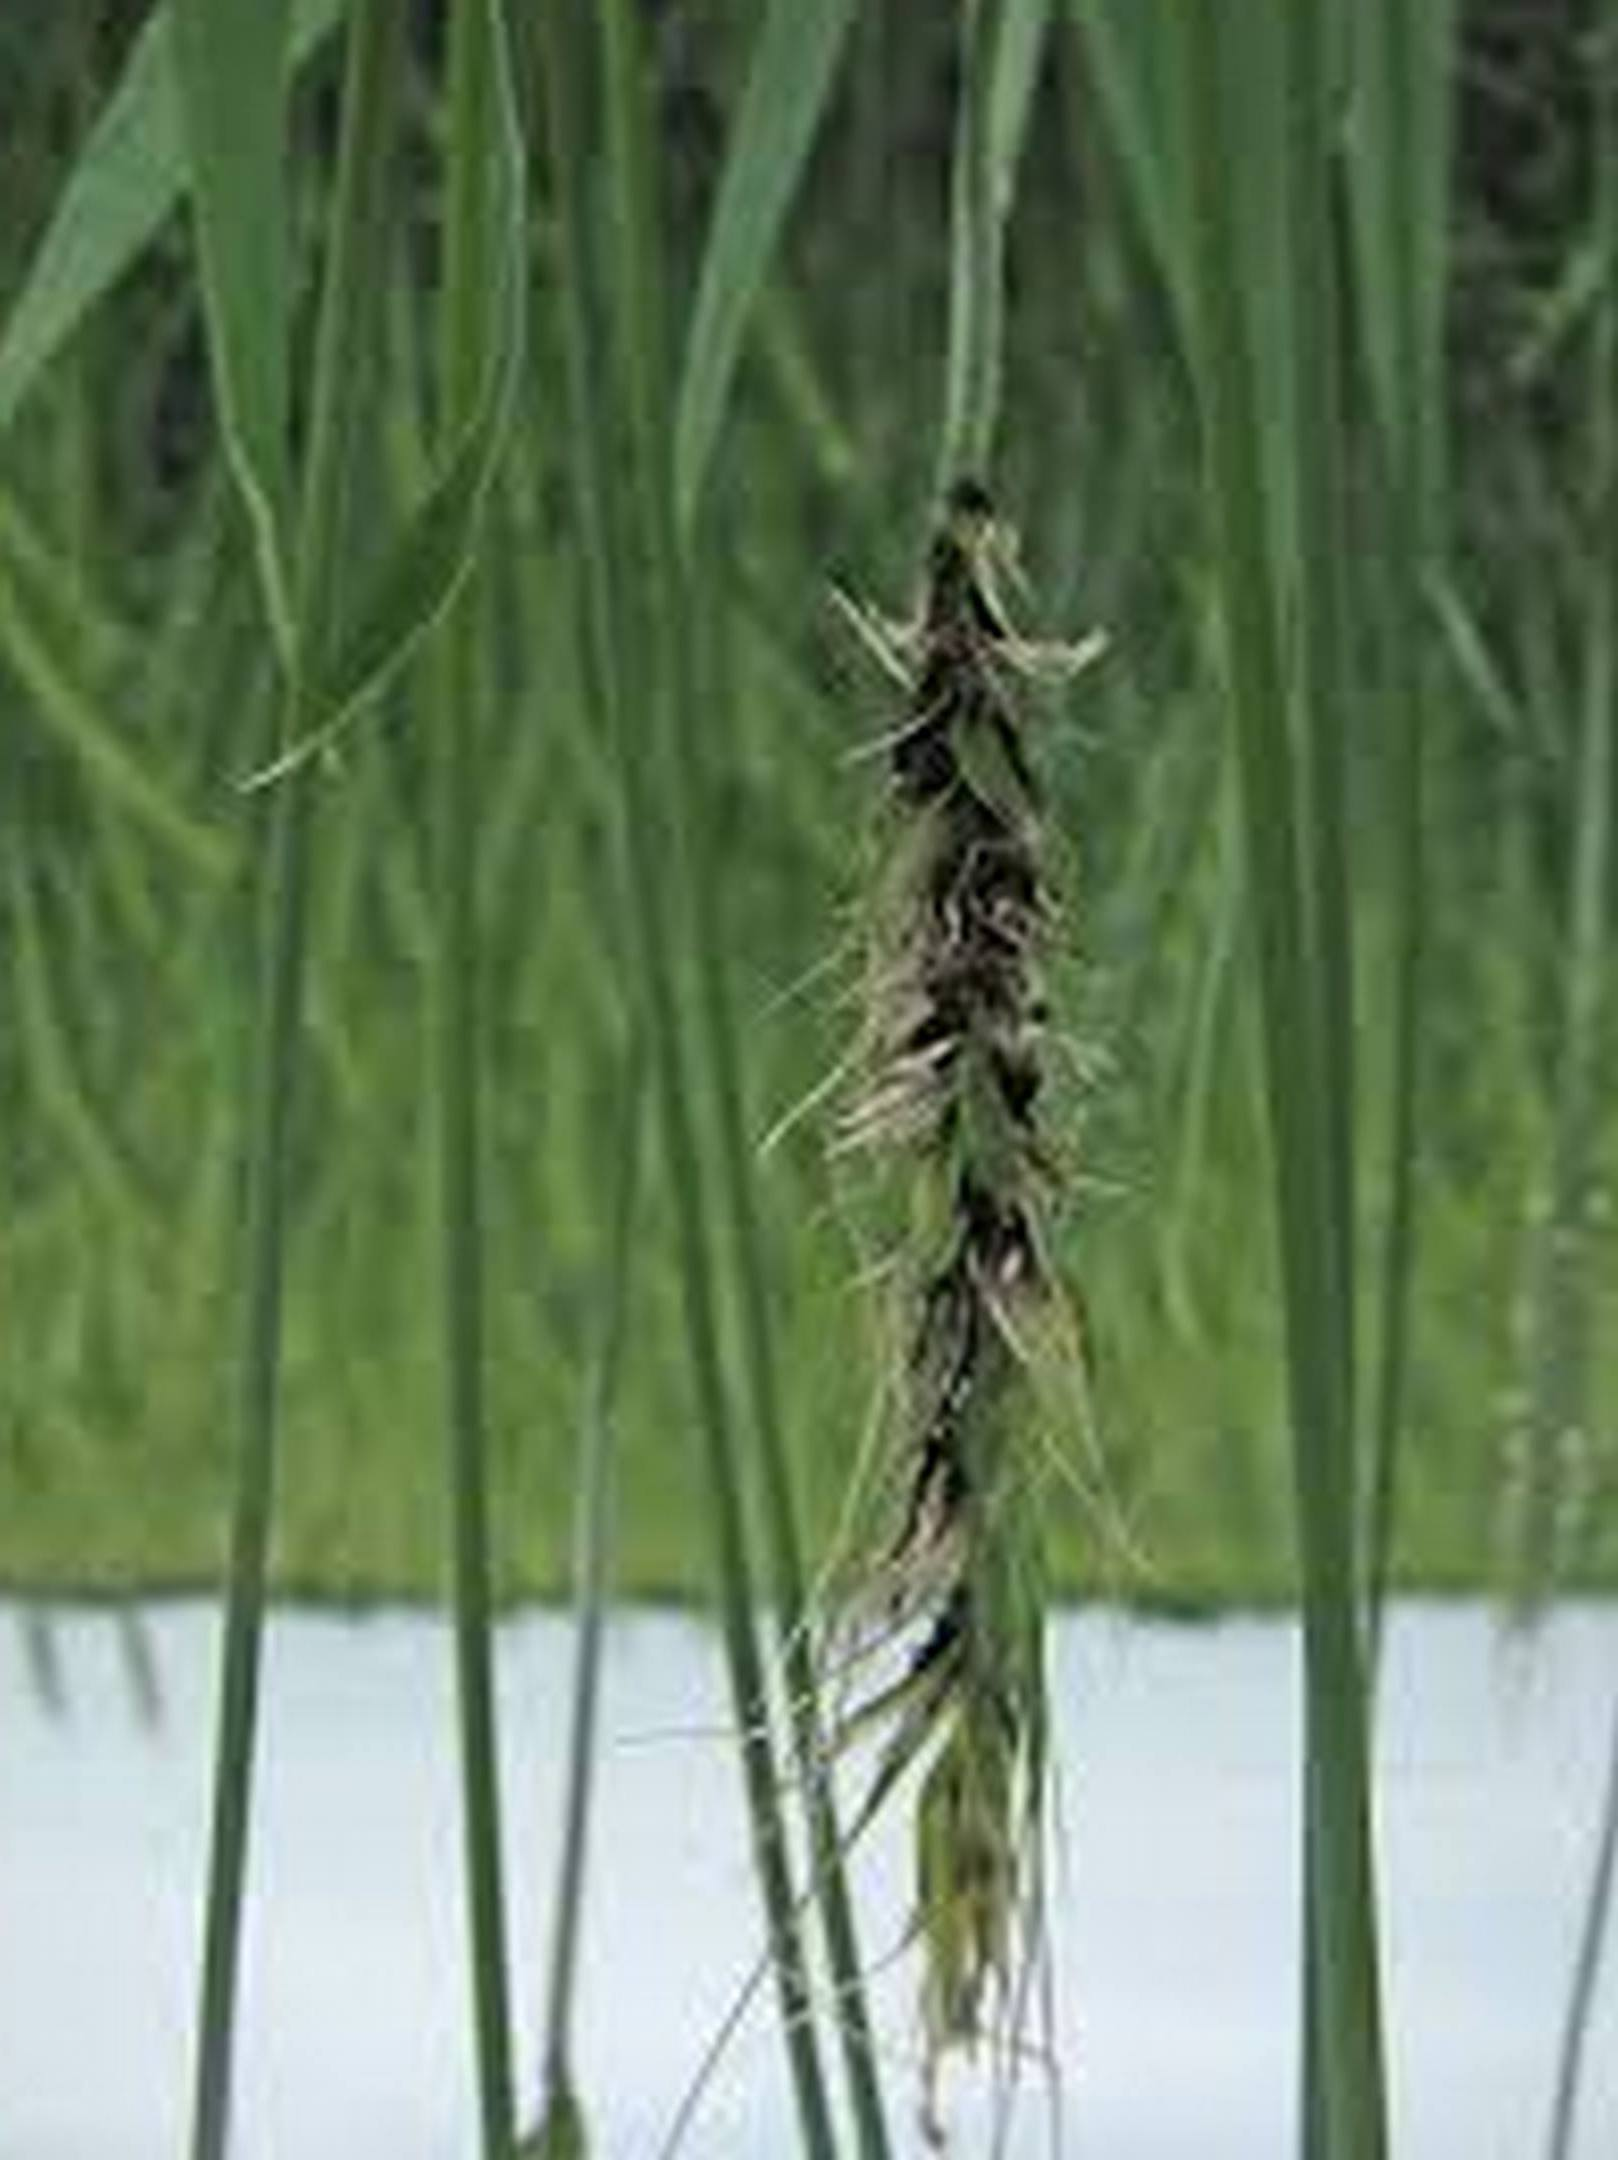Wheat Loose Smut: (819, 568, 1101, 1927)
